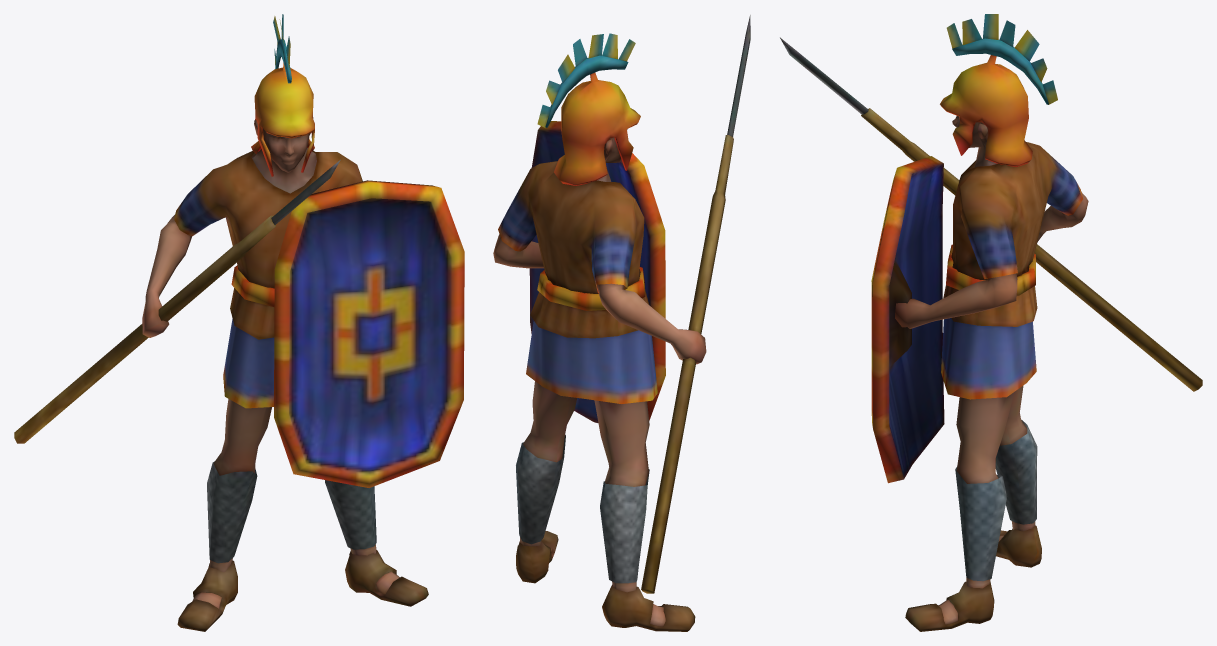
File: Phalanx.glb
3 views of the same model, side by side, from view 1: azimuth 30°, elevation 25°; view 2: azimuth 150°, elevation 25°; view 3: azimuth 270°, elevation 25° (orthographic). The views are drawn at different scales.
Parts seen in each view (by area): view 1: dress; view 2: dress; view 3: dress.
Part boxes in pixels (x1,y1,x2,y2): dress: [14, 14, 464, 631]; dress: [493, 15, 750, 631]; dress: [780, 14, 1202, 631].
Size of the model in its own units: 0.9653 by 1.9 by 1.27.
1 material, 1 textured.
